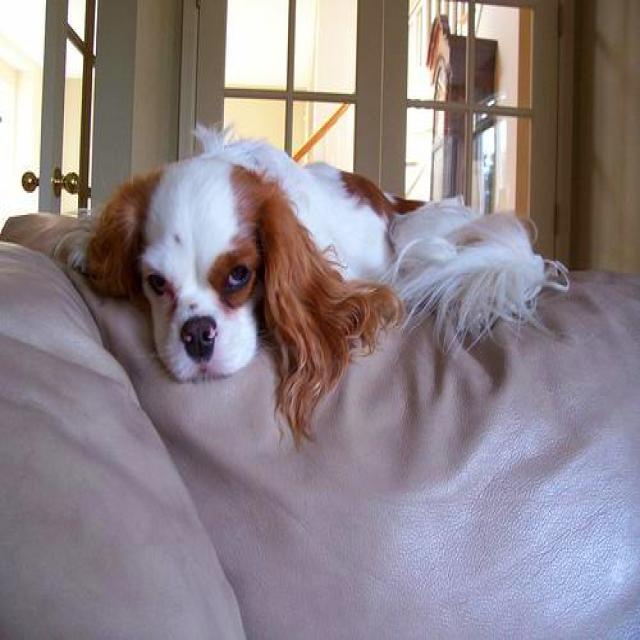blenheim_spaniel: (42, 116, 572, 454)
